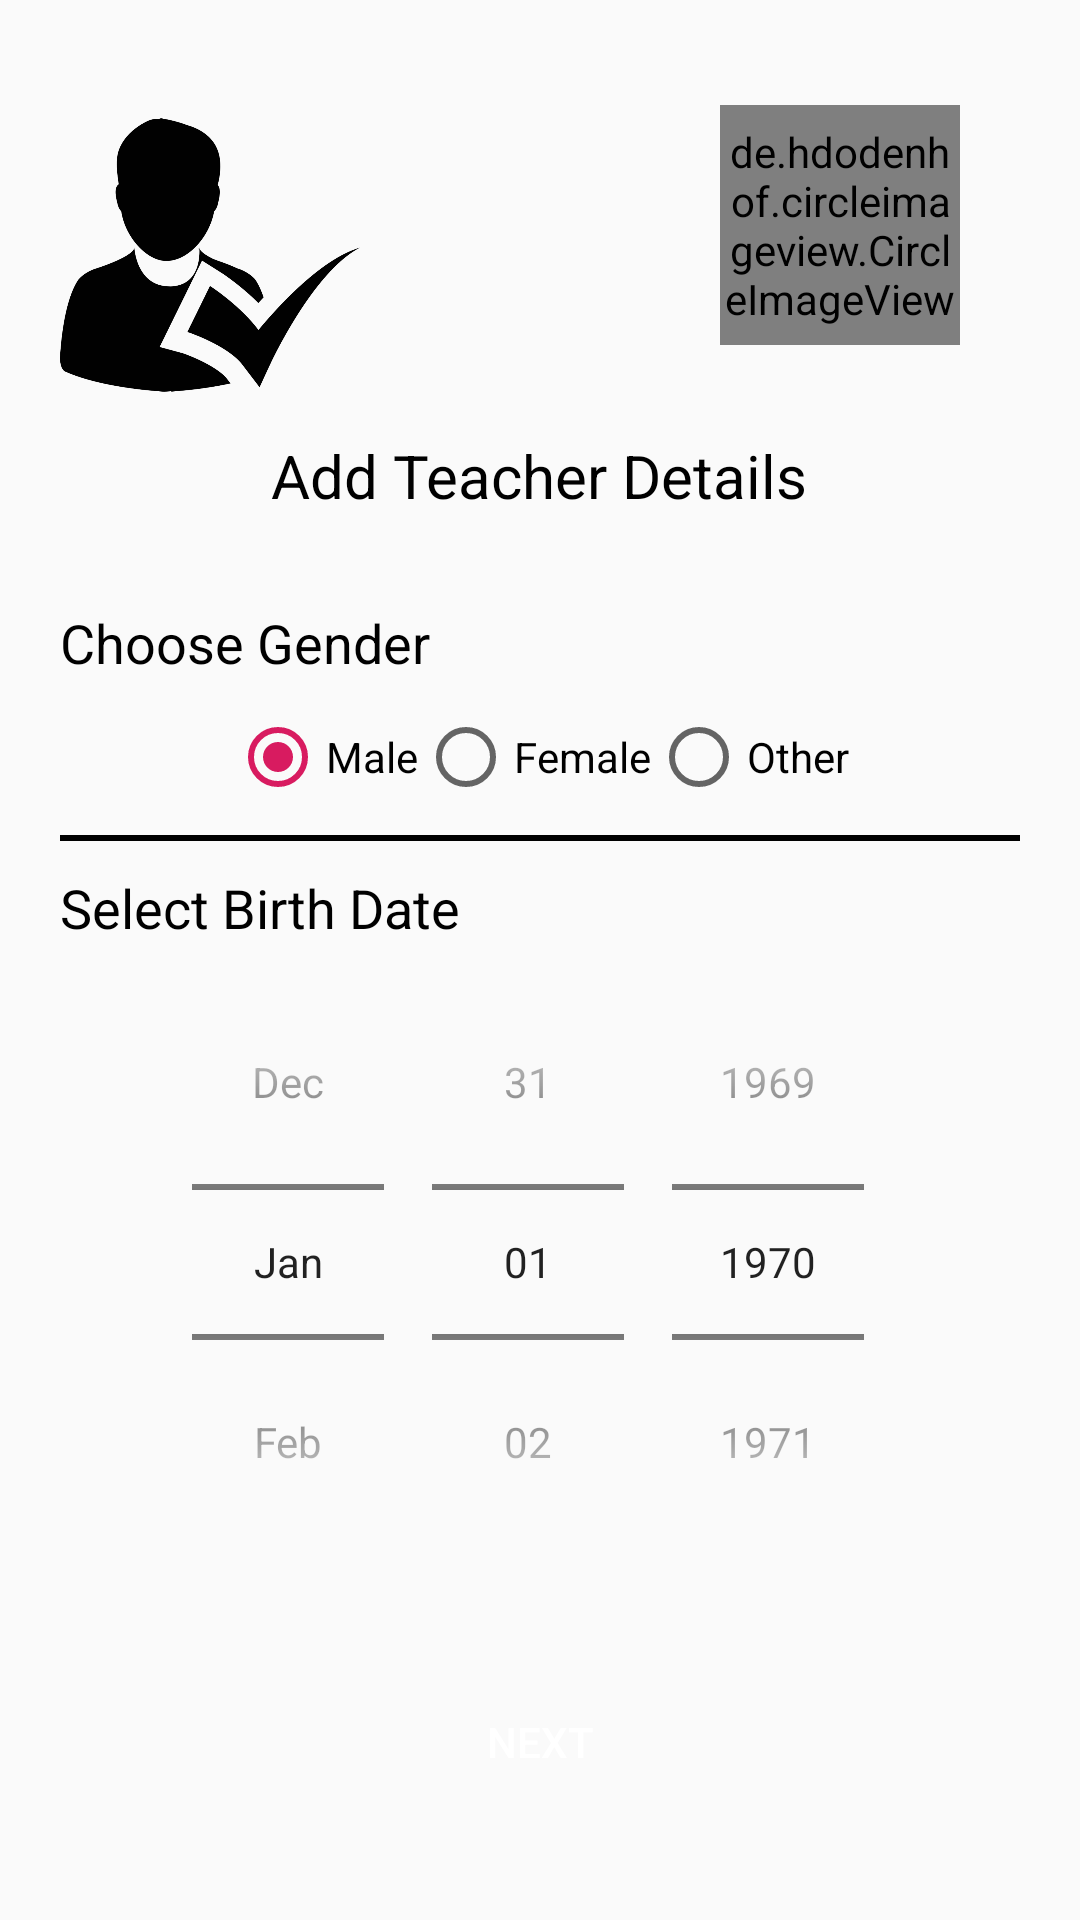

Named icons in this screenshot (1080 x 1920) and their bounding boxes, (x1, y1, x2, y2):
attendance: (60, 118, 359, 392)
